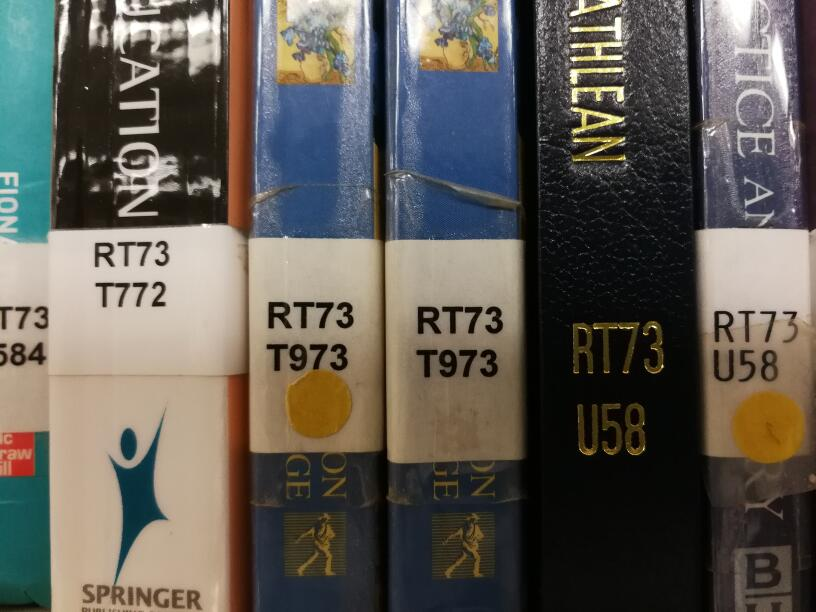booklabel: (568, 319, 671, 459), (412, 303, 508, 379), (710, 307, 802, 385), (263, 298, 358, 373), (91, 238, 172, 309)
